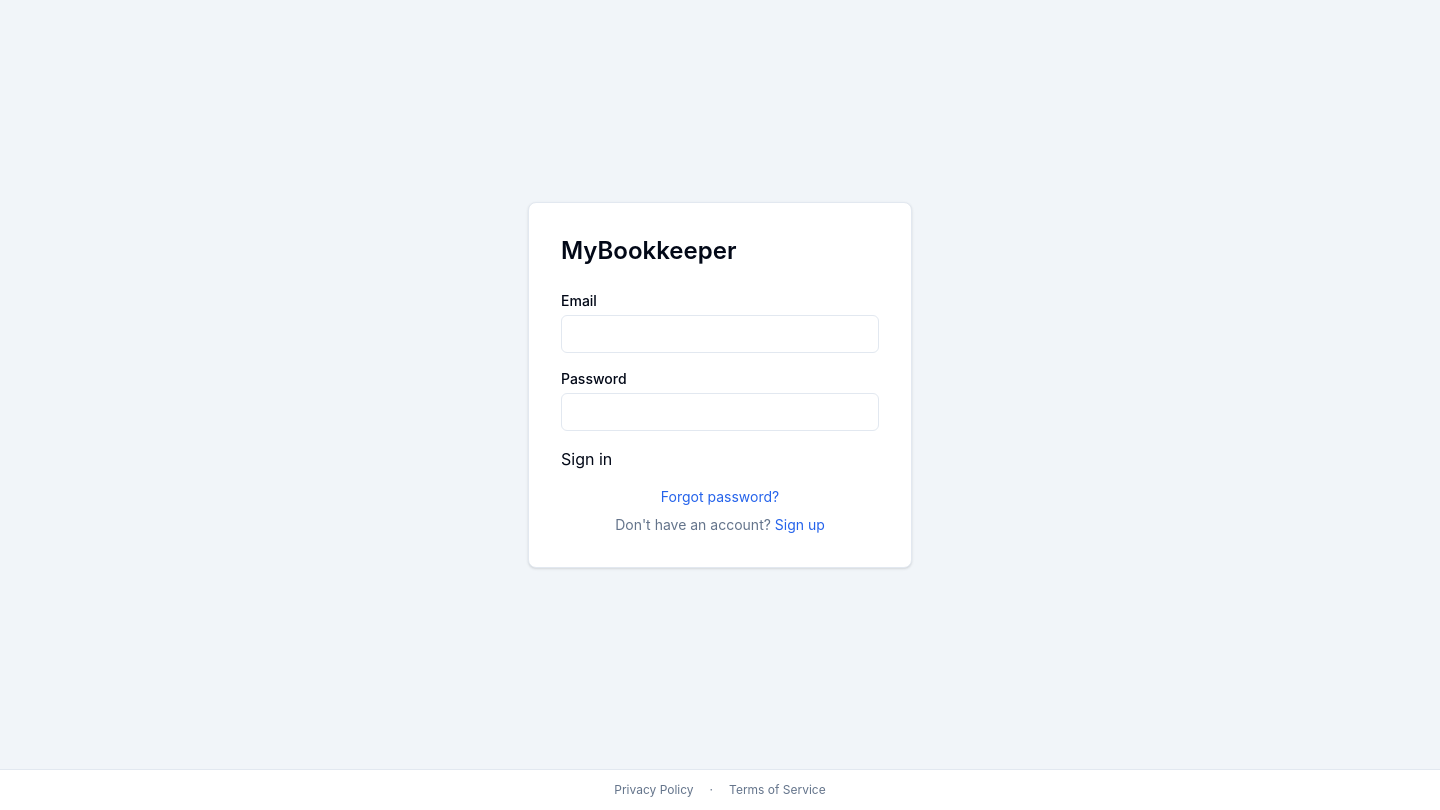
Test: Login — error handling › shows validation message when email is empty
Type "somepass" into the password field at (720, 412), box 561,392 -> 879,430
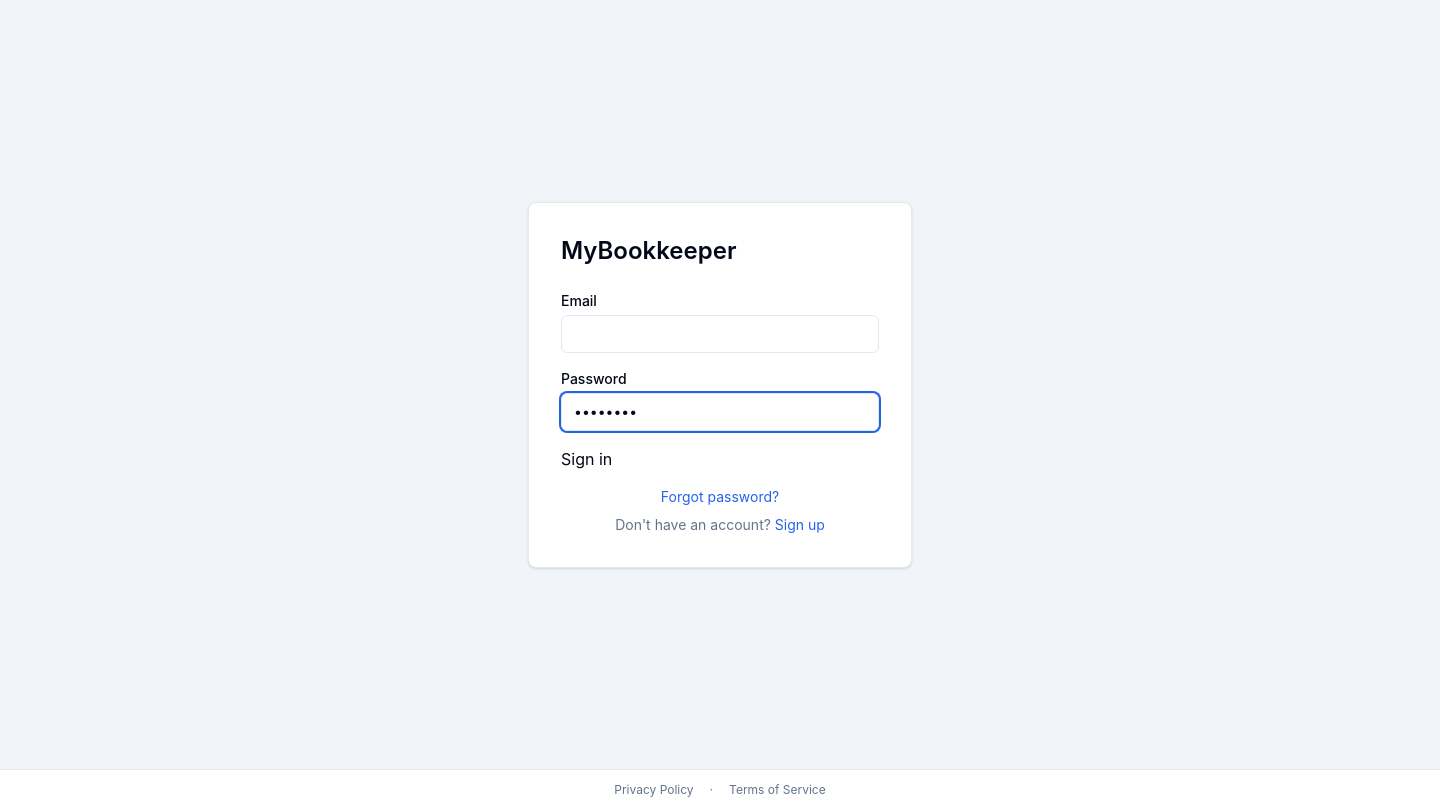
Submit the form, box 561,290 -> 879,470
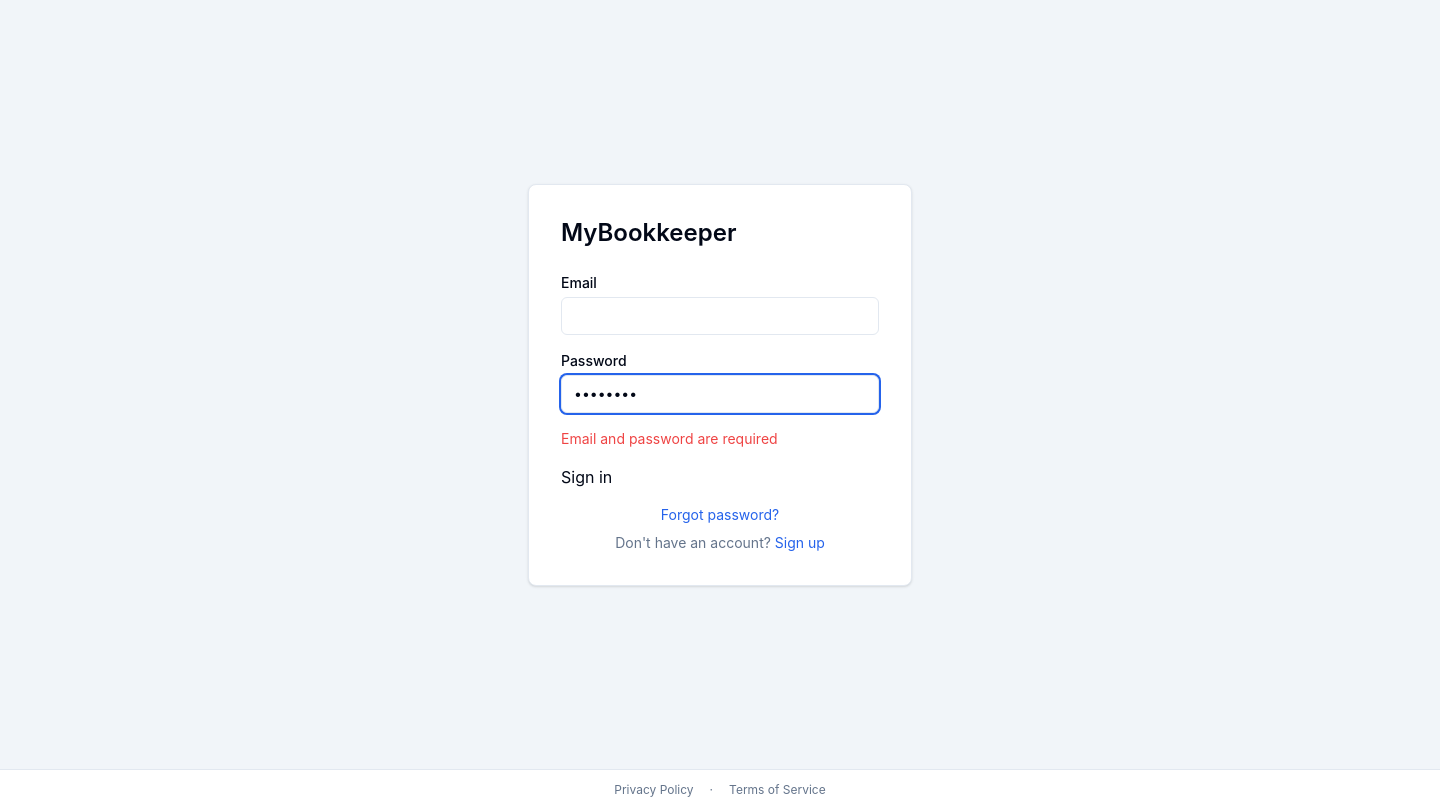
Now the text "Email and password are required" is shown, box 561,430 -> 778,446
